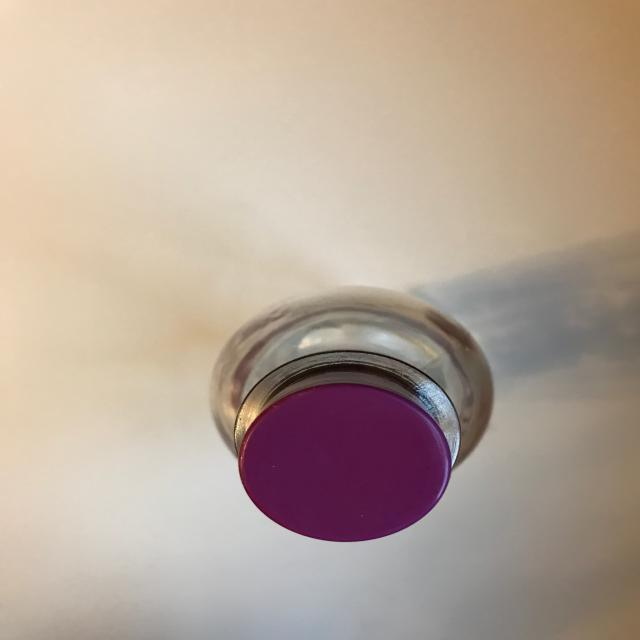glass: (207, 286, 496, 544)
